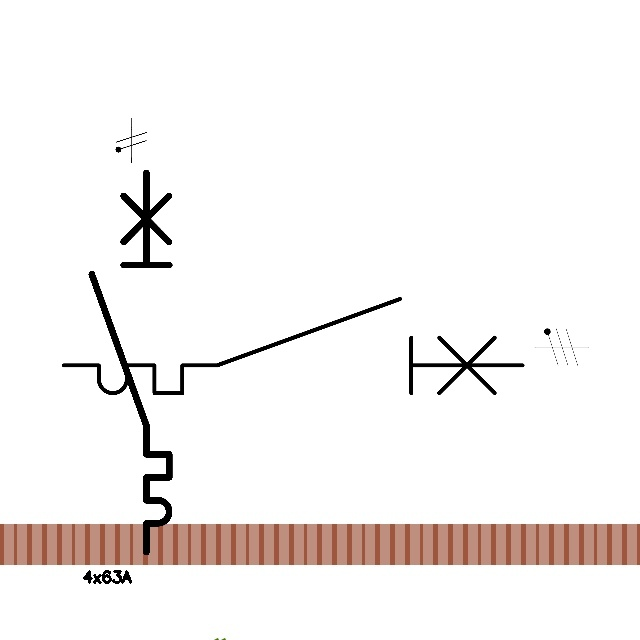interruptor_termomagnetico: (52, 287, 534, 405), (82, 163, 179, 562)
